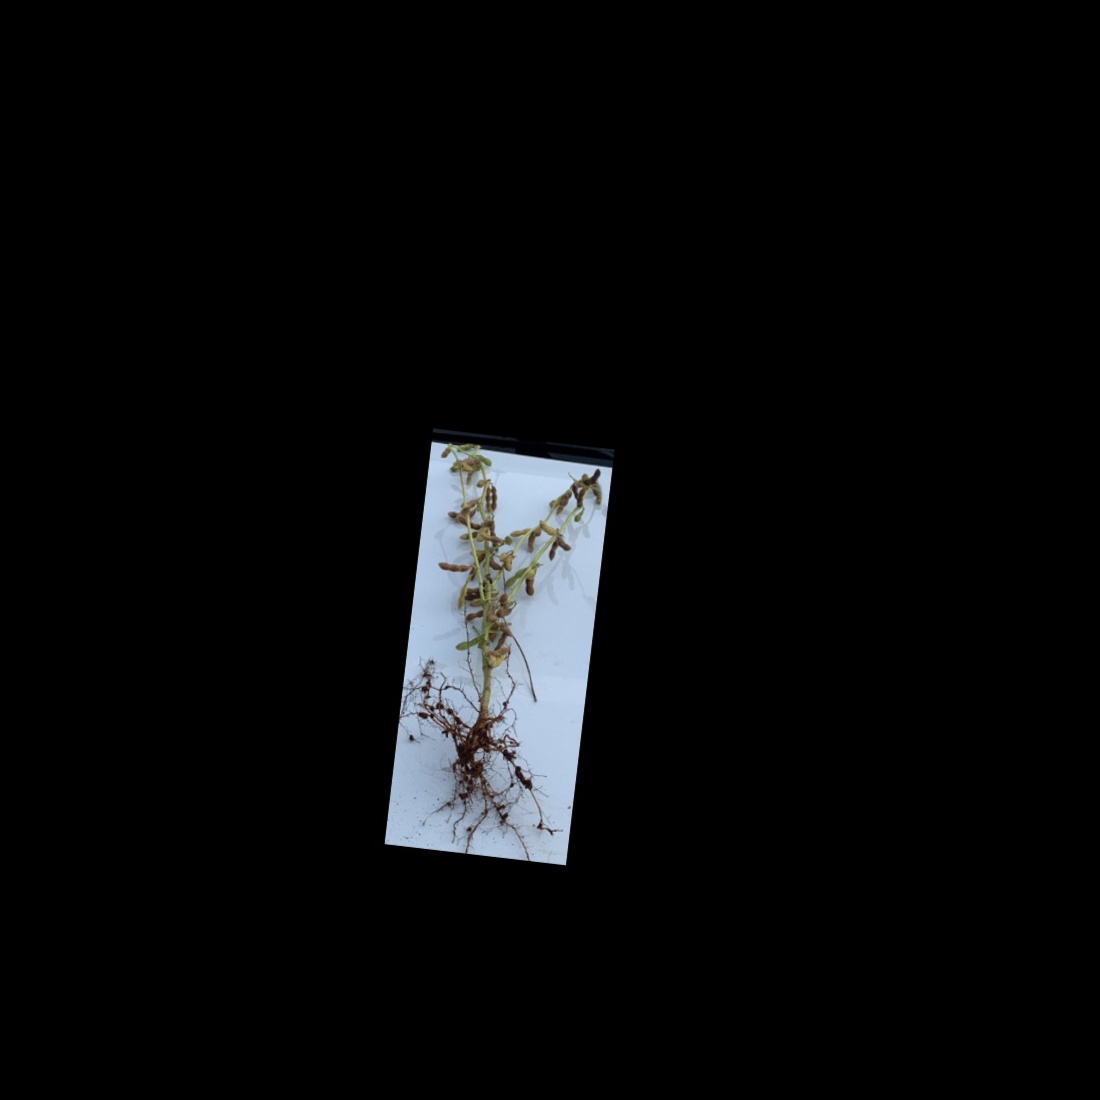pod: (434, 558, 476, 577), (452, 630, 486, 654), (498, 564, 527, 591), (551, 532, 577, 552), (486, 482, 501, 513), (462, 606, 486, 627), (452, 439, 477, 456), (507, 524, 533, 540)
soy: (390, 433, 609, 857)
